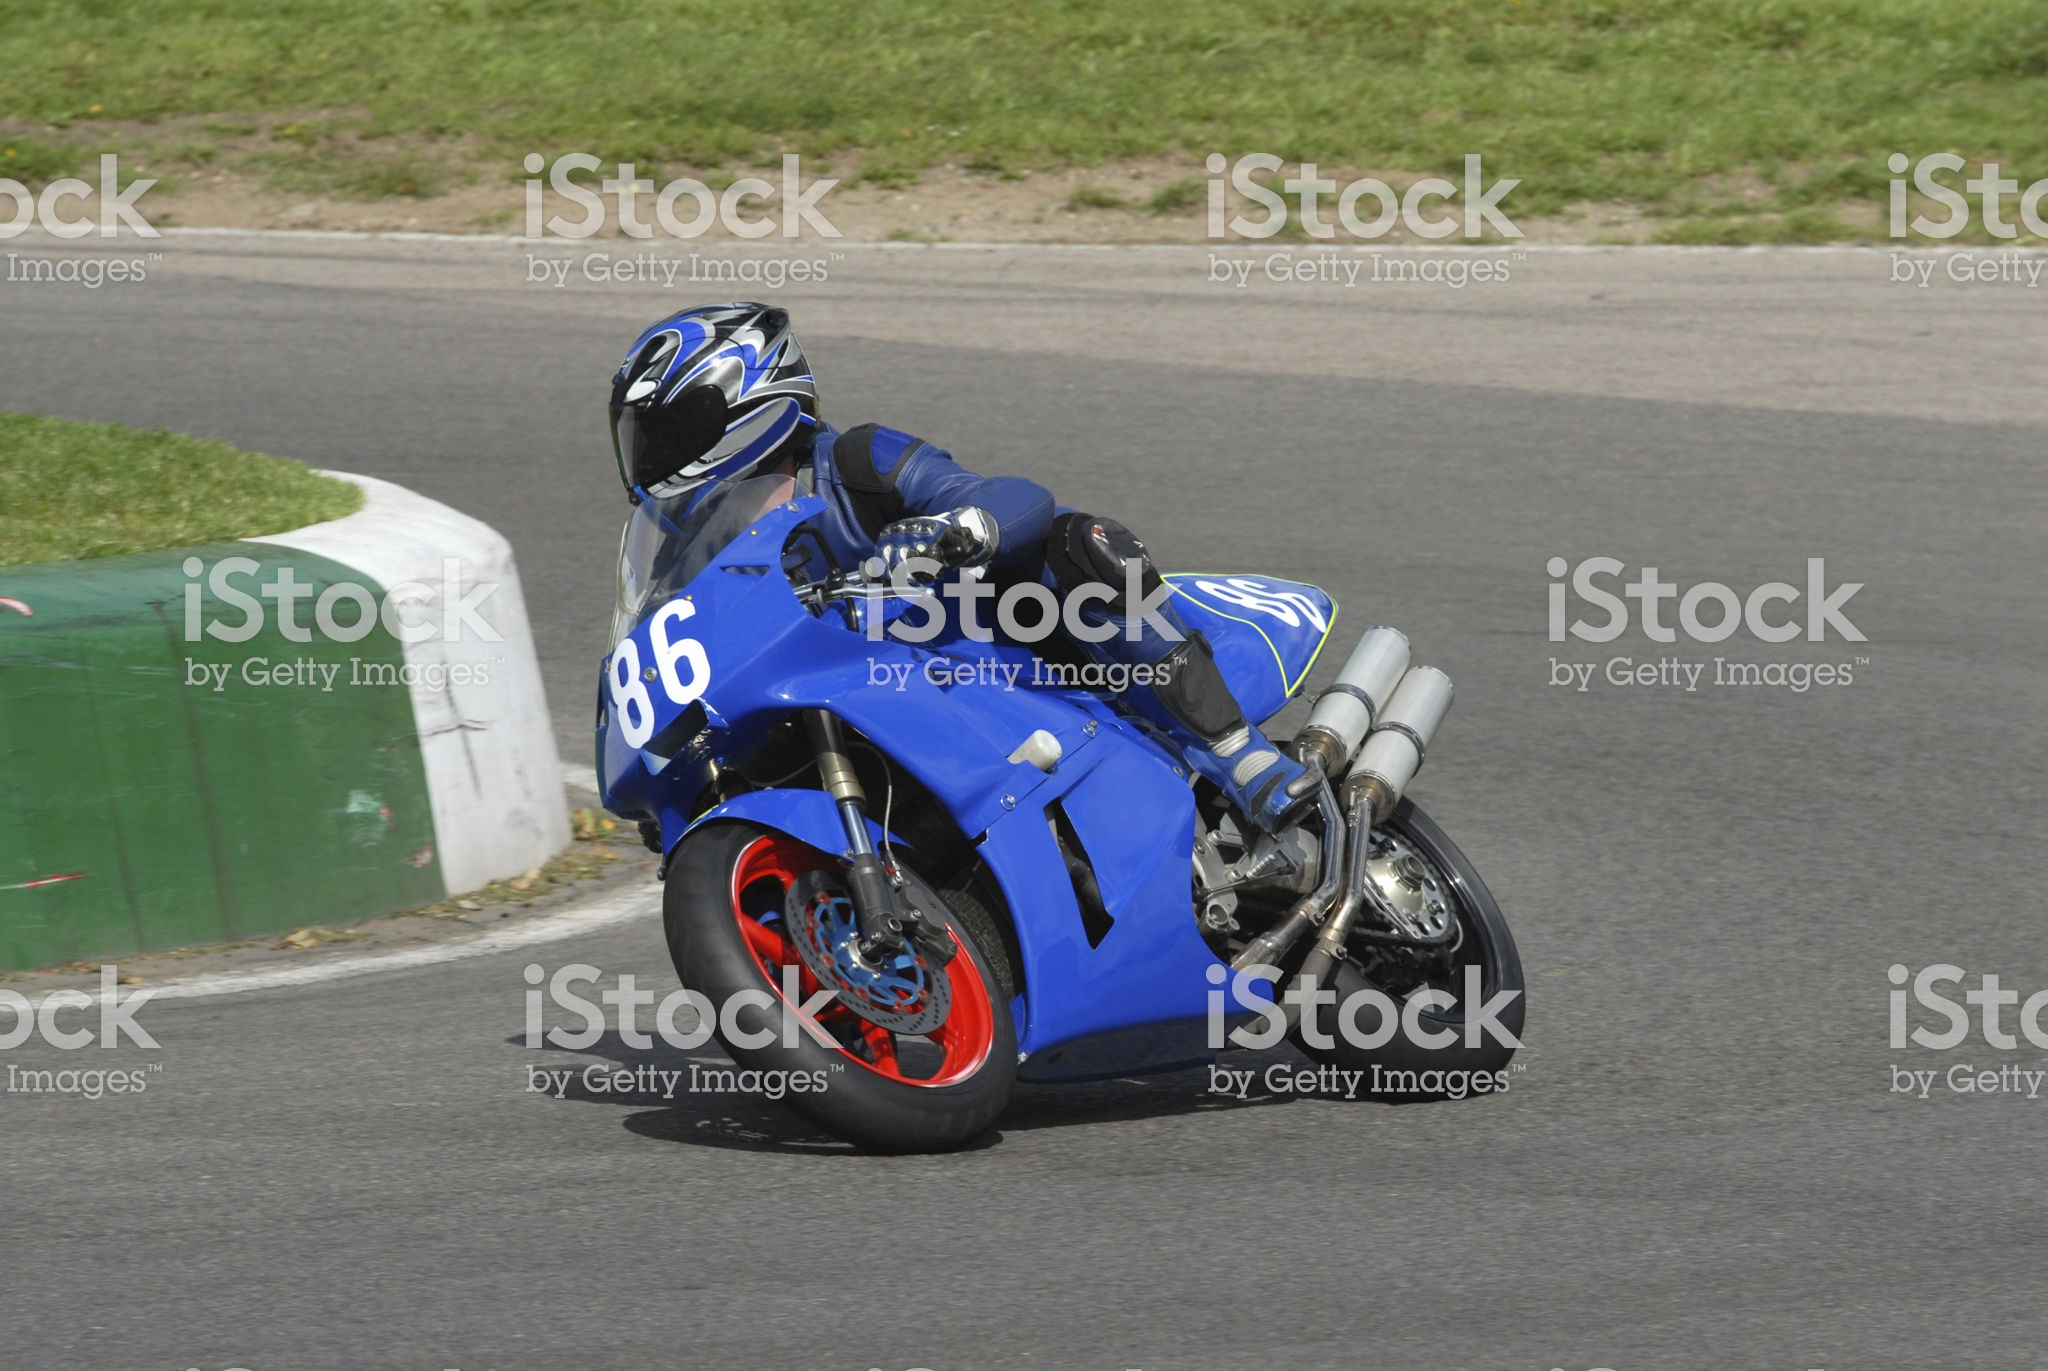helmet: (593, 321, 832, 477)
